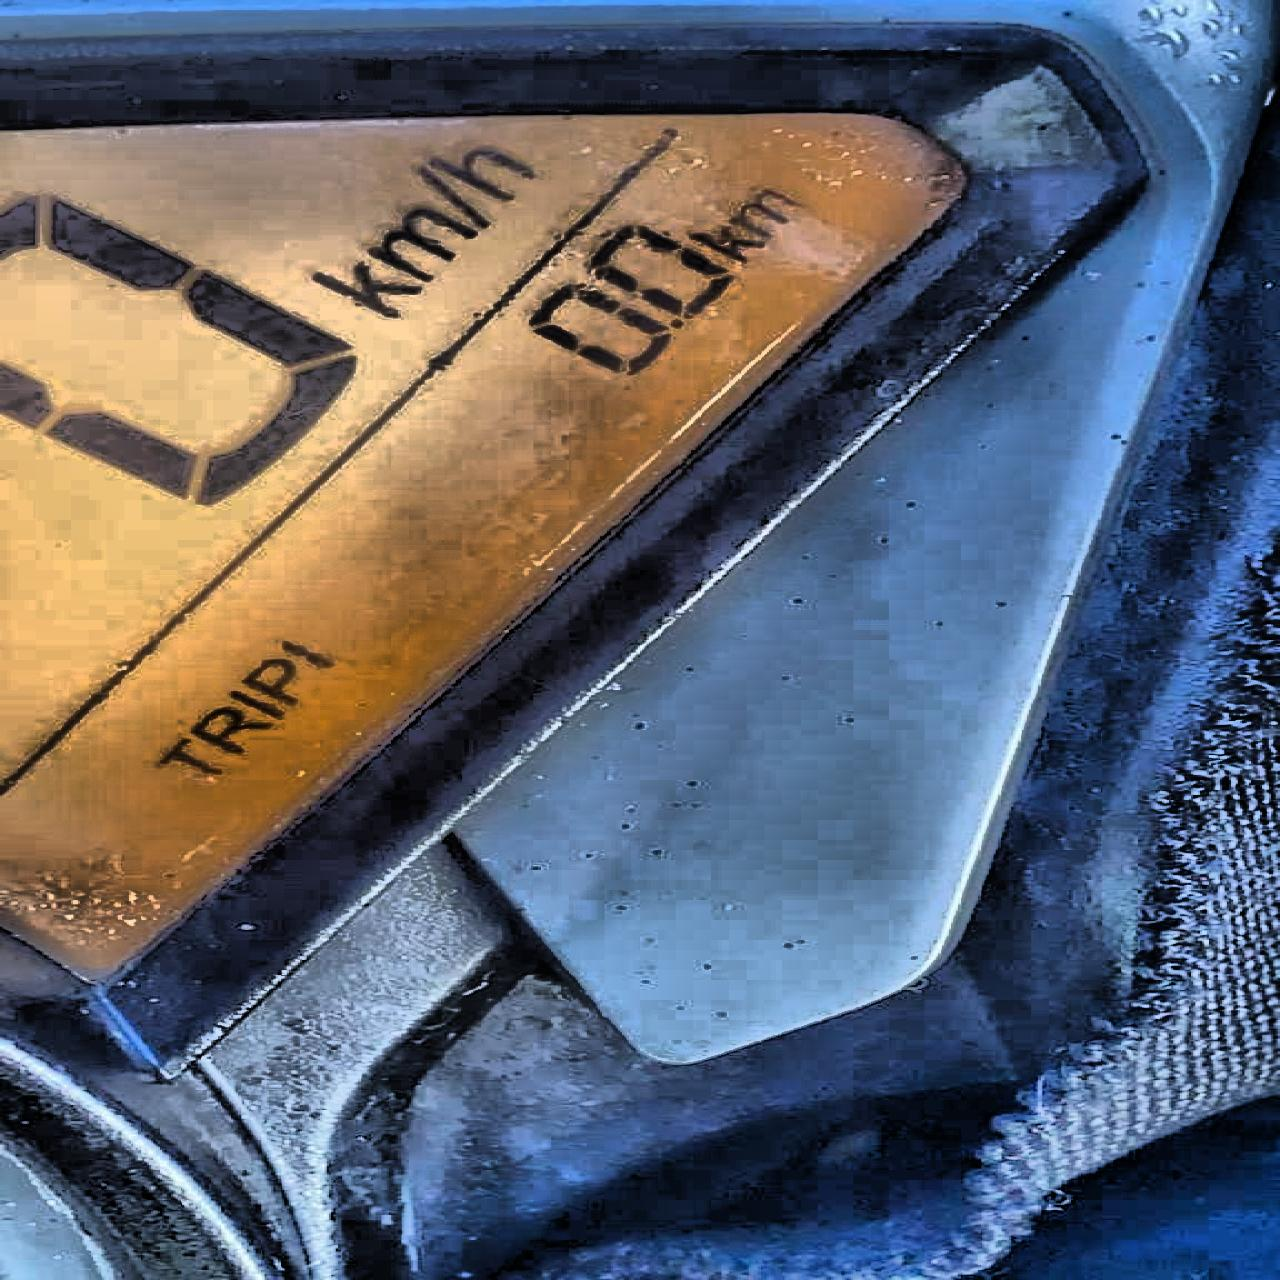-: (665, 313, 685, 328)
0: (0, 170, 360, 501), (588, 225, 738, 316), (524, 284, 669, 377)
1: (275, 633, 342, 668)
X: (349, 206, 484, 280), (302, 261, 429, 324), (404, 162, 498, 232), (424, 143, 543, 198), (186, 707, 273, 751), (731, 185, 805, 234), (685, 222, 769, 263), (238, 660, 315, 704), (142, 736, 220, 778), (213, 686, 285, 723)
odometer: (0, 94, 1027, 992)
